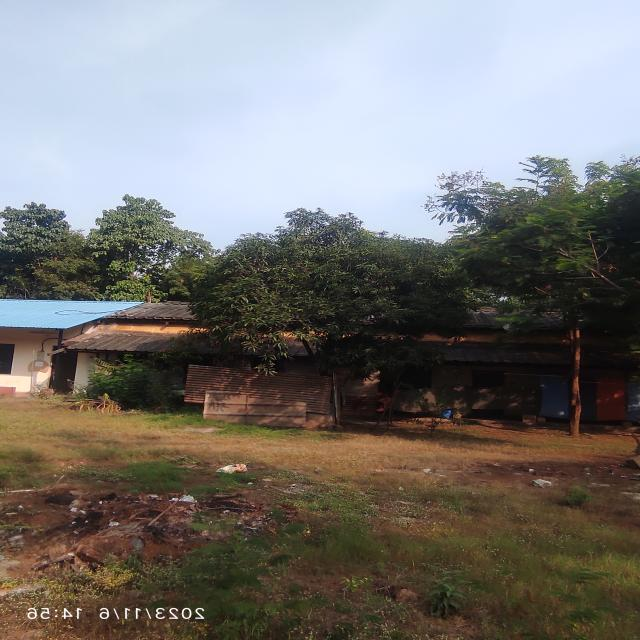Mango Tree: (224, 222, 429, 371)
